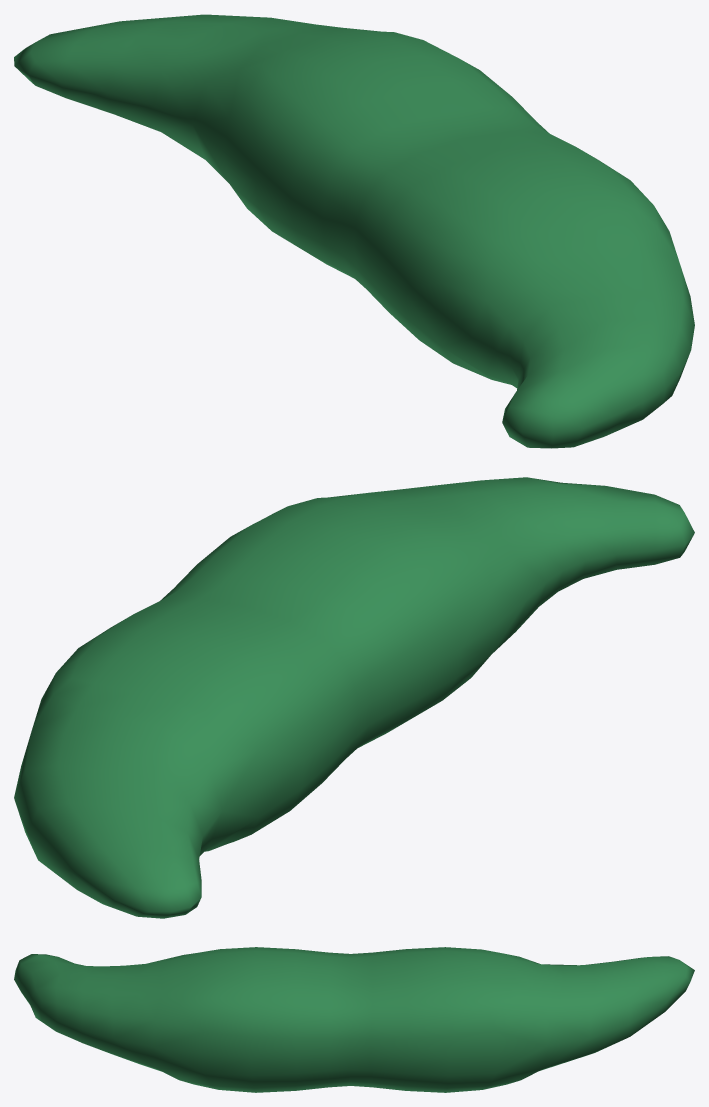
File: Peas_02.dae
3 renders of one model, top to bottom at view 1: azimuth 30°, elevation 25°; view 2: azimuth 150°, elevation 25°; view 3: azimuth 270°, elevation 25°, orthographic. The views are drawn at different scales.
Parts seen in each view (by area): view 1: Peas_02_LOD0; view 2: Peas_02_LOD0; view 3: Peas_02_LOD0.
Part boxes in pixels (x1,y1,x2,y2): Peas_02_LOD0: [14, 14, 694, 448]; Peas_02_LOD0: [14, 477, 694, 918]; Peas_02_LOD0: [14, 947, 694, 1092].
Size of what is drawn, in the model's own units: 2.02 by 6.09 by 1.13.
